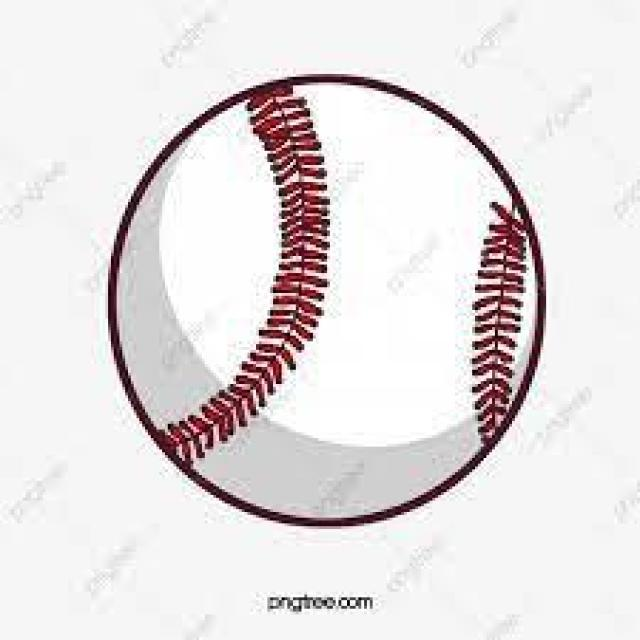ball: (101, 72, 552, 531)
